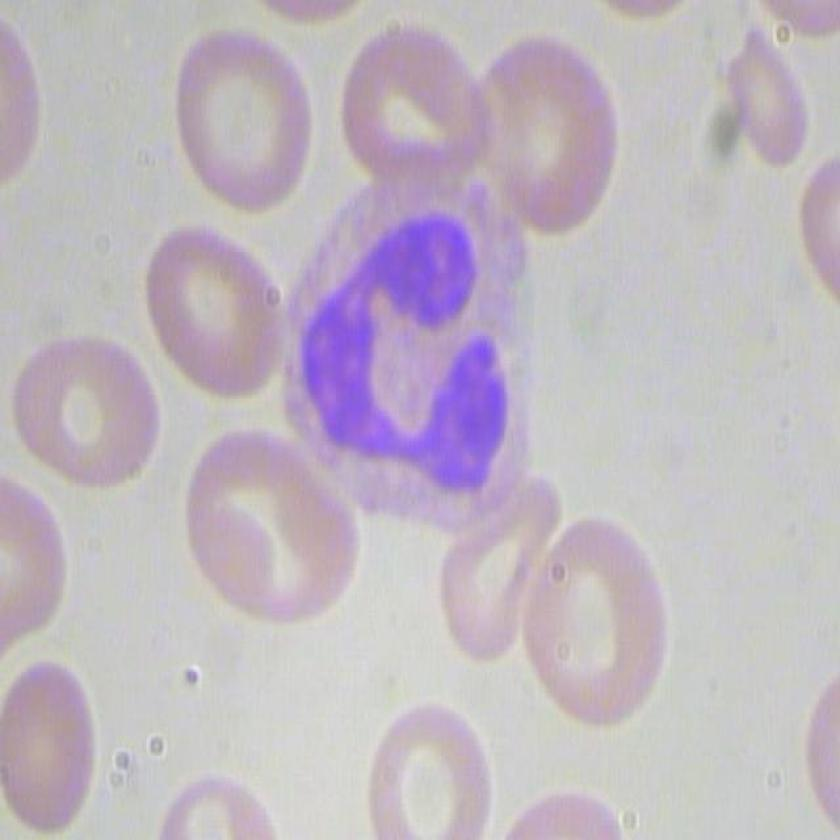neutrophil: (278, 171, 547, 532)
